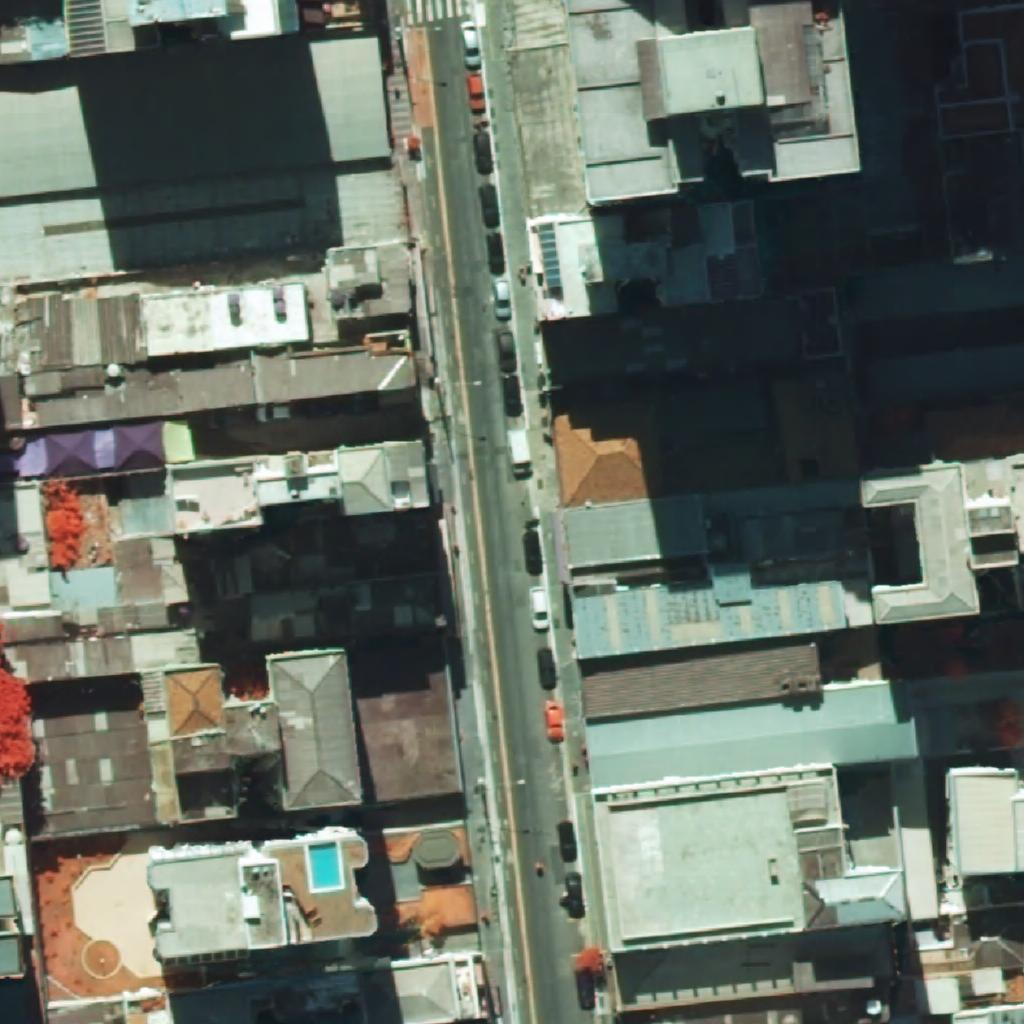pool: (309, 842, 341, 889)
